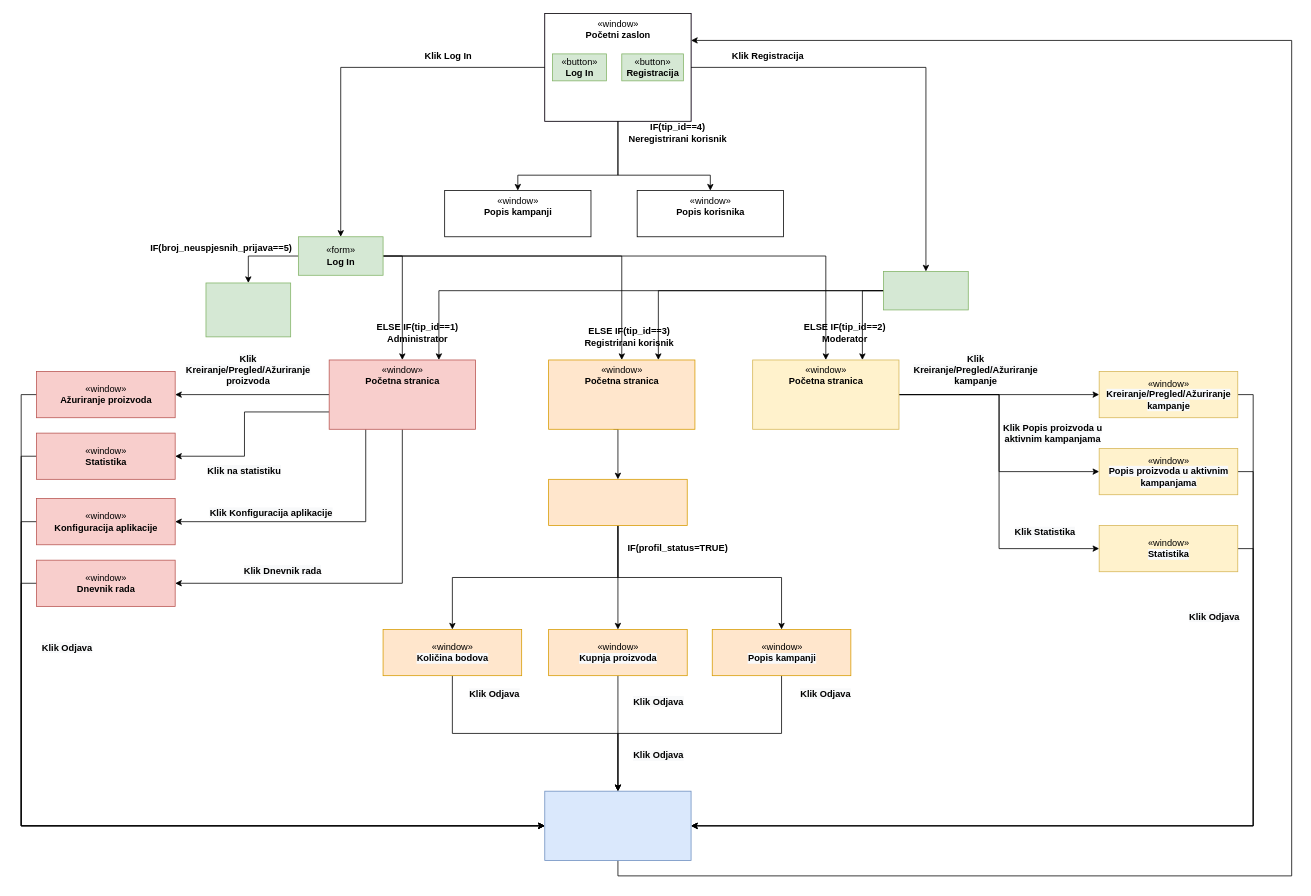
Some shapes in this 1311 by 896 pixel diagram are drawn without their labels. Here are the shapes that lost their labels. From the top down, the centre of each, then its label:
the point at 248,309: «window» Sesija zaključana
the point at 925,290: «form» Registracija
the point at 617,502: «window» Profil
the point at 617,825: «window» Odjava
